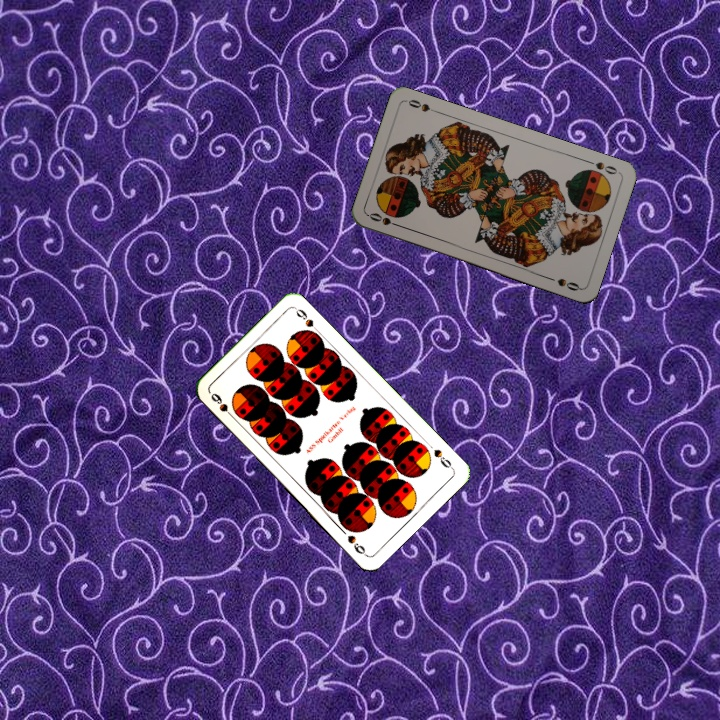S9: (207, 389, 238, 422), (429, 445, 456, 472)
SO: (365, 209, 404, 230), (582, 156, 621, 177)
